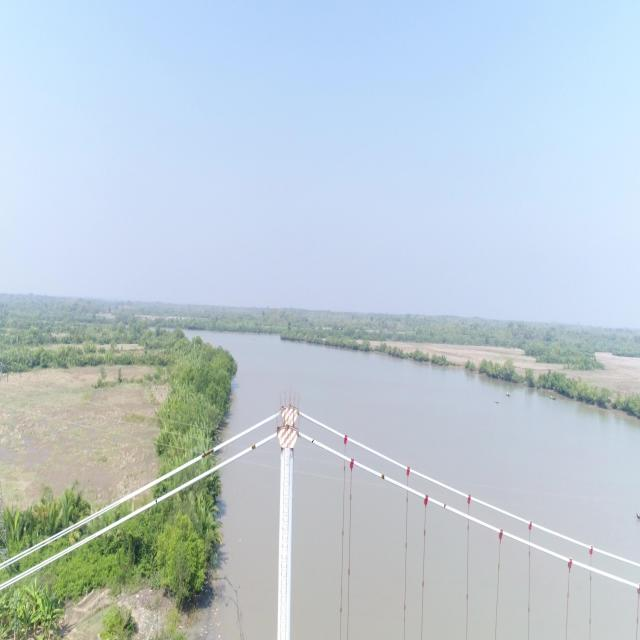corrosion: (202, 448, 214, 458), (380, 473, 384, 480), (252, 444, 256, 450), (155, 499, 157, 505), (444, 503, 446, 509), (312, 438, 314, 443)
